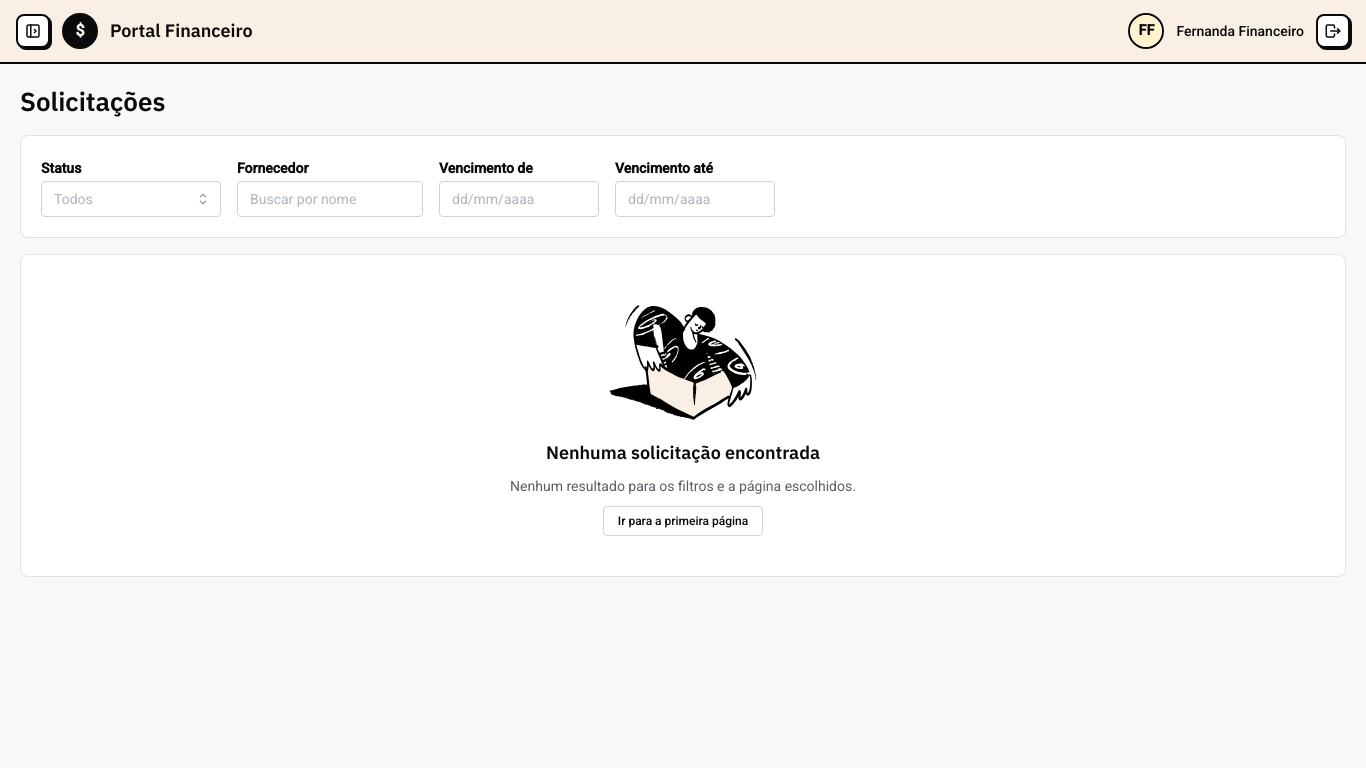
it: RequestListPage › a page past the last one shows the empty state with a shortcut to the first
Expected: the heading "Nenhuma solicitação encontrada" is shown, [546, 440, 820, 466]
Click the button "Ir para a primeira página". click: (683, 521)
box: [603, 506, 763, 536]
(page scrolled)
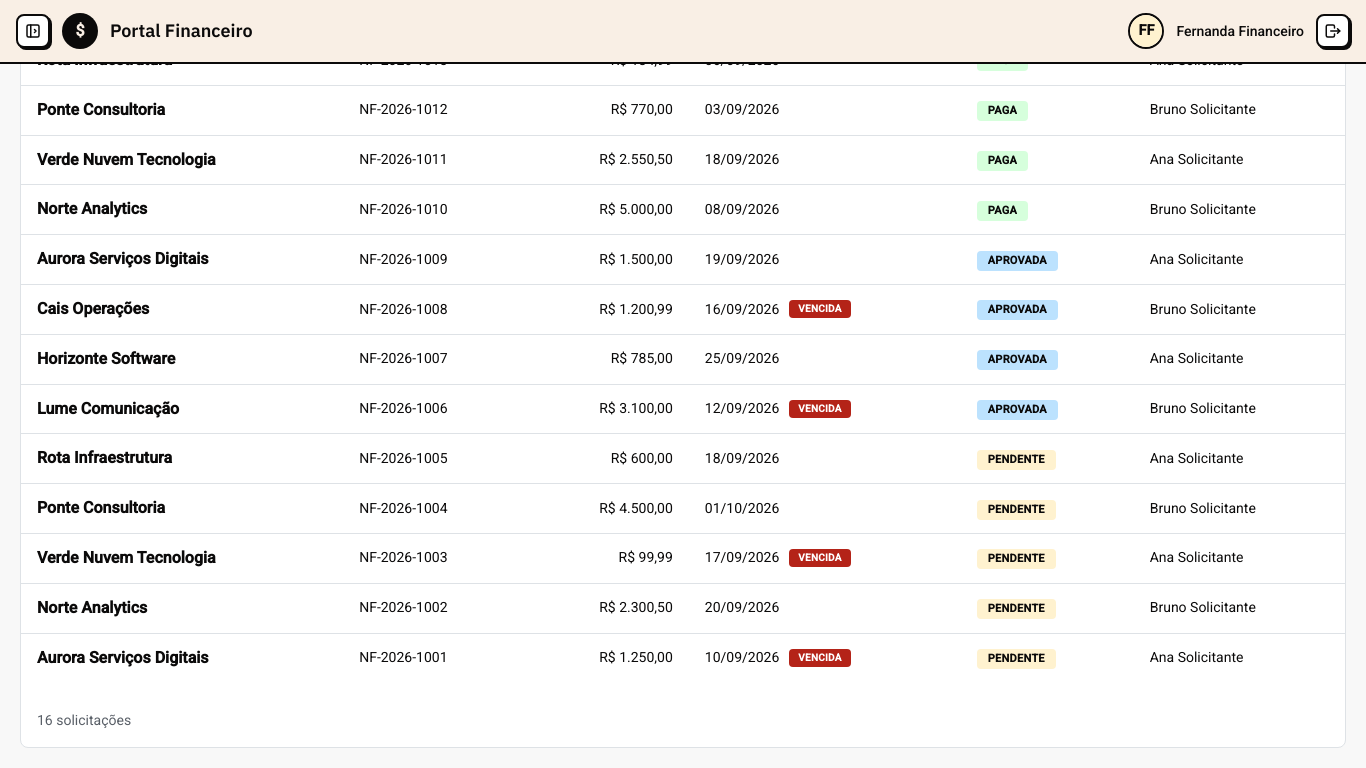
Expected: the text "16 solicitações" is shown, [37, 710, 131, 731]
